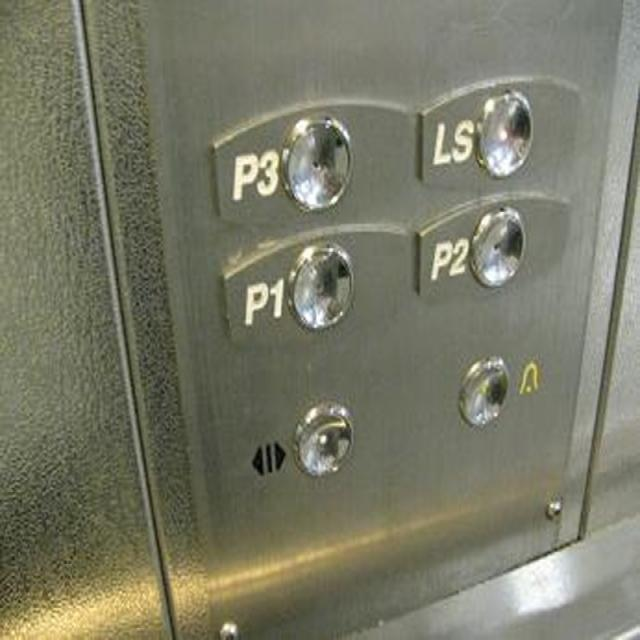LS: (415, 72, 584, 189)
P1: (219, 220, 414, 349)
P2: (411, 188, 577, 300)
P3: (204, 94, 415, 210)
alarm: (450, 341, 556, 435)
open: (227, 388, 357, 501)
